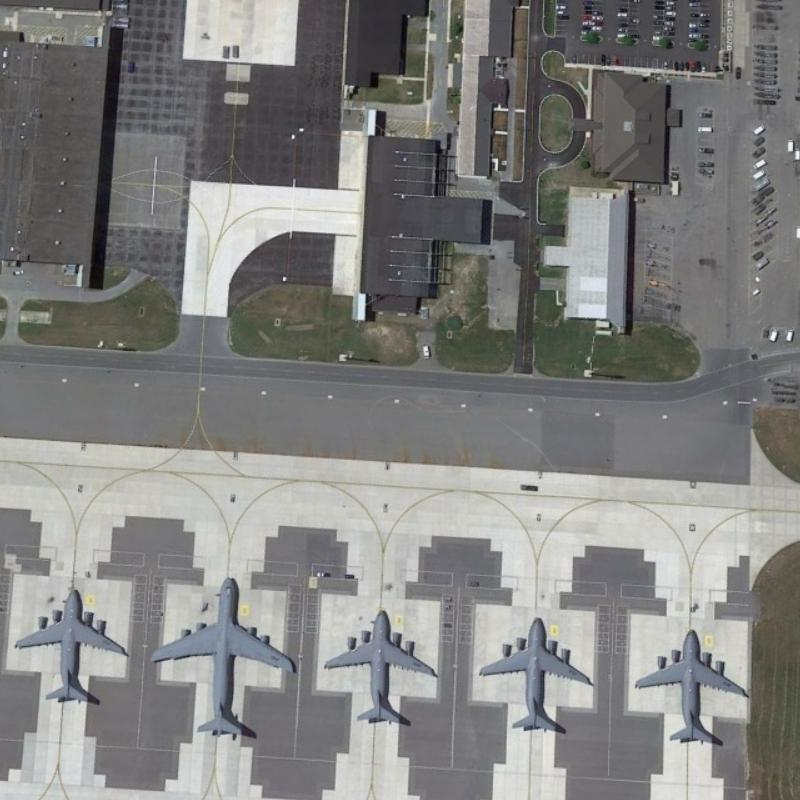A3: (9, 576, 134, 711), (629, 621, 753, 755), (473, 612, 599, 738), (321, 599, 442, 729)
A4: (142, 572, 299, 746)
